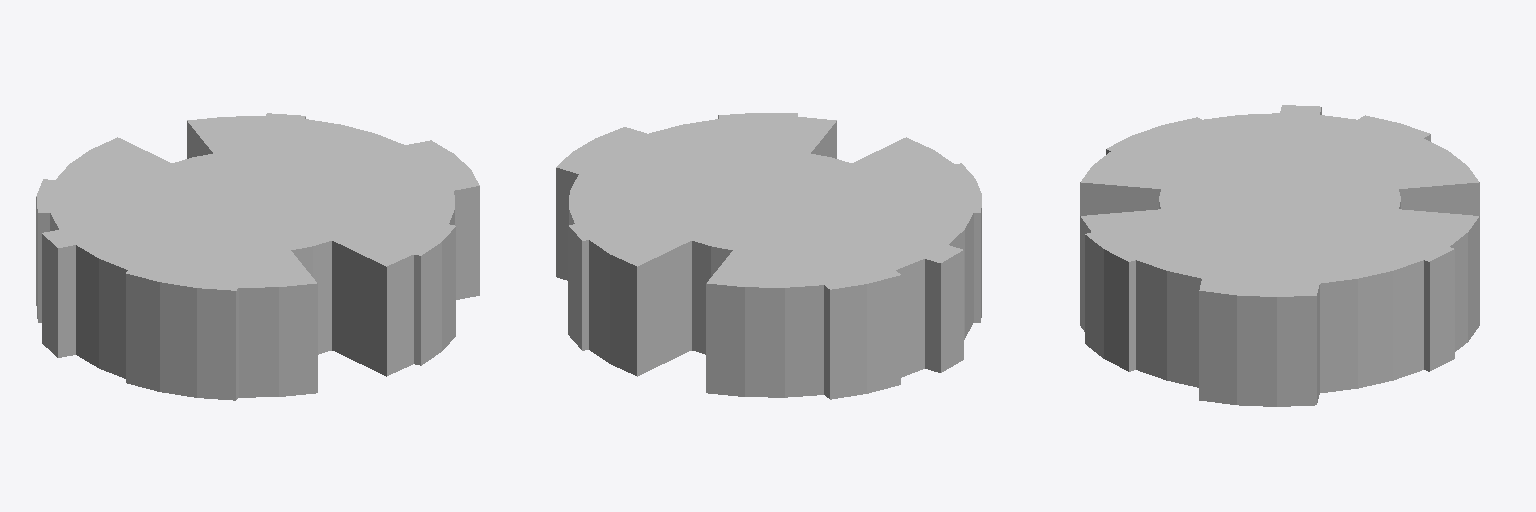
File: ember_twin.obj
The picture shows the model from 3 angles: view 1: azimuth 30°, elevation 25°; view 2: azimuth 150°, elevation 25°; view 3: azimuth 270°, elevation 25°; orthographic projection.
Parts seen in each view (by area): view 1: EmberTwin; view 2: EmberTwin; view 3: EmberTwin.
Part boxes in pixels (x1,y1,x2,y2): EmberTwin: (36,113,479,400); EmberTwin: (556,113,981,399); EmberTwin: (1080,105,1479,406).
Bounding box in the file's own units: 3.75 × 1 × 3.3.